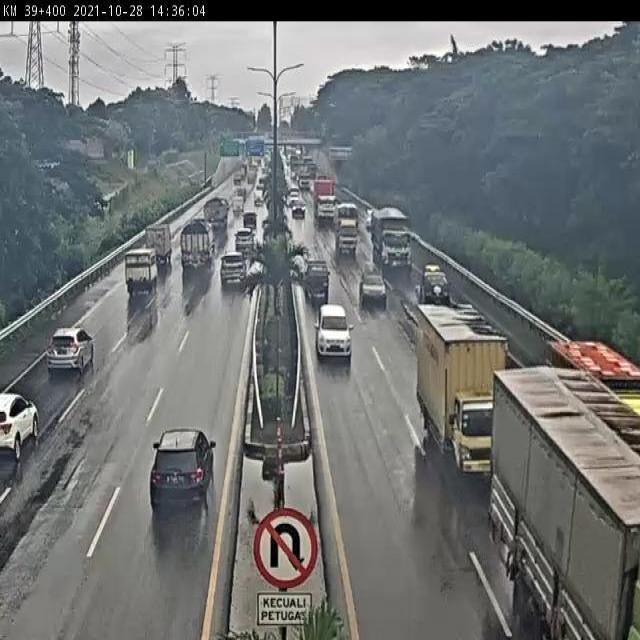big truck: (479, 329, 637, 640), (373, 205, 410, 263), (187, 220, 208, 268), (314, 180, 331, 227), (198, 195, 225, 220)
car: (137, 411, 215, 508), (1, 384, 40, 468), (36, 336, 81, 395), (119, 253, 156, 303), (319, 296, 346, 352), (360, 264, 384, 307), (222, 253, 242, 300), (418, 257, 440, 295), (306, 250, 325, 286), (236, 232, 252, 257), (293, 197, 306, 227), (247, 208, 260, 231)
small truck: (395, 294, 486, 454), (571, 317, 640, 416), (335, 207, 358, 253), (140, 231, 167, 261)
